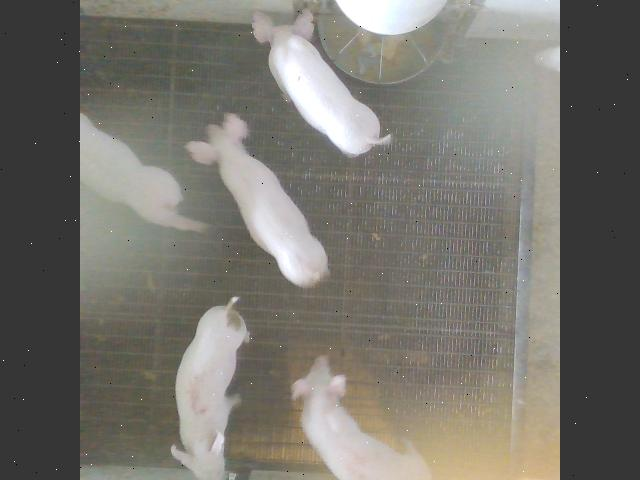pig-4: (291, 356, 431, 480)
pig-5: (171, 296, 248, 480)
